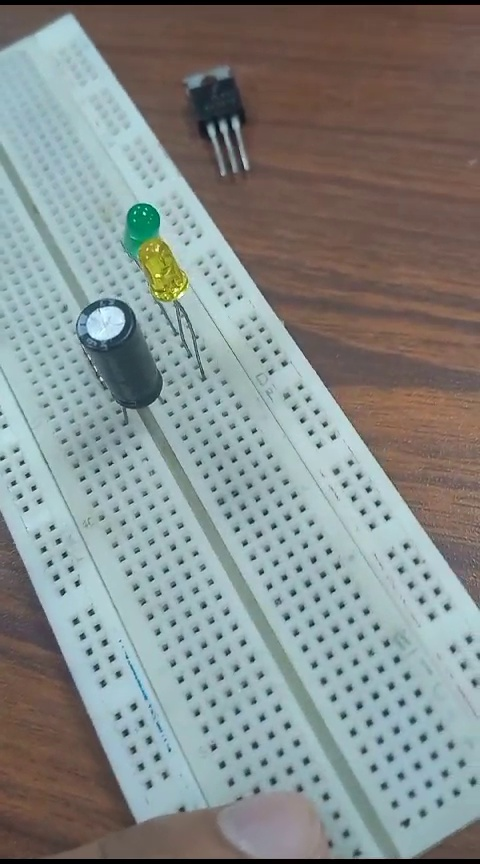LED: (136, 240, 215, 387), (116, 197, 167, 244)
capacitor: (66, 292, 164, 420)
voltage regulator: (174, 59, 254, 183)
